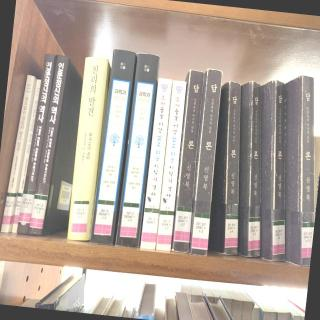book-spine: (90, 48, 136, 245), (115, 52, 159, 248), (67, 56, 108, 241), (29, 54, 68, 237), (17, 53, 56, 235), (191, 68, 222, 256), (173, 70, 205, 252), (140, 78, 172, 250), (0, 74, 34, 233), (157, 80, 186, 250), (11, 79, 41, 233), (300, 76, 315, 266), (226, 82, 241, 254), (272, 80, 285, 261), (248, 80, 261, 256)
